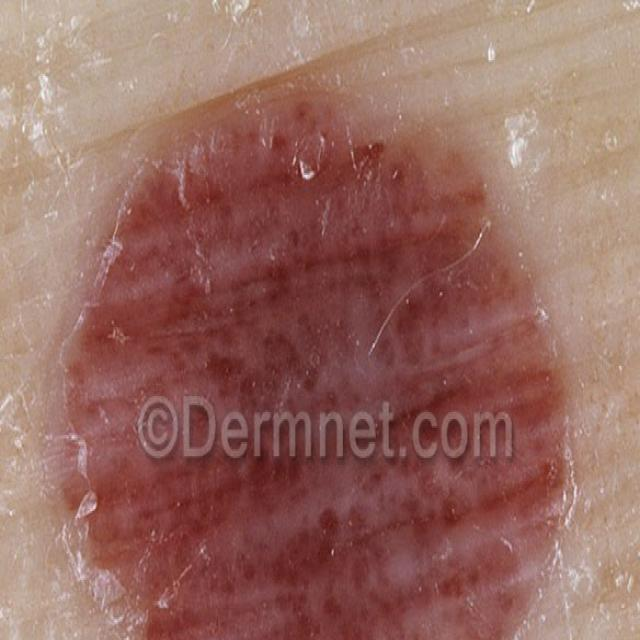Vascular Tumors: (40, 76, 587, 640)
